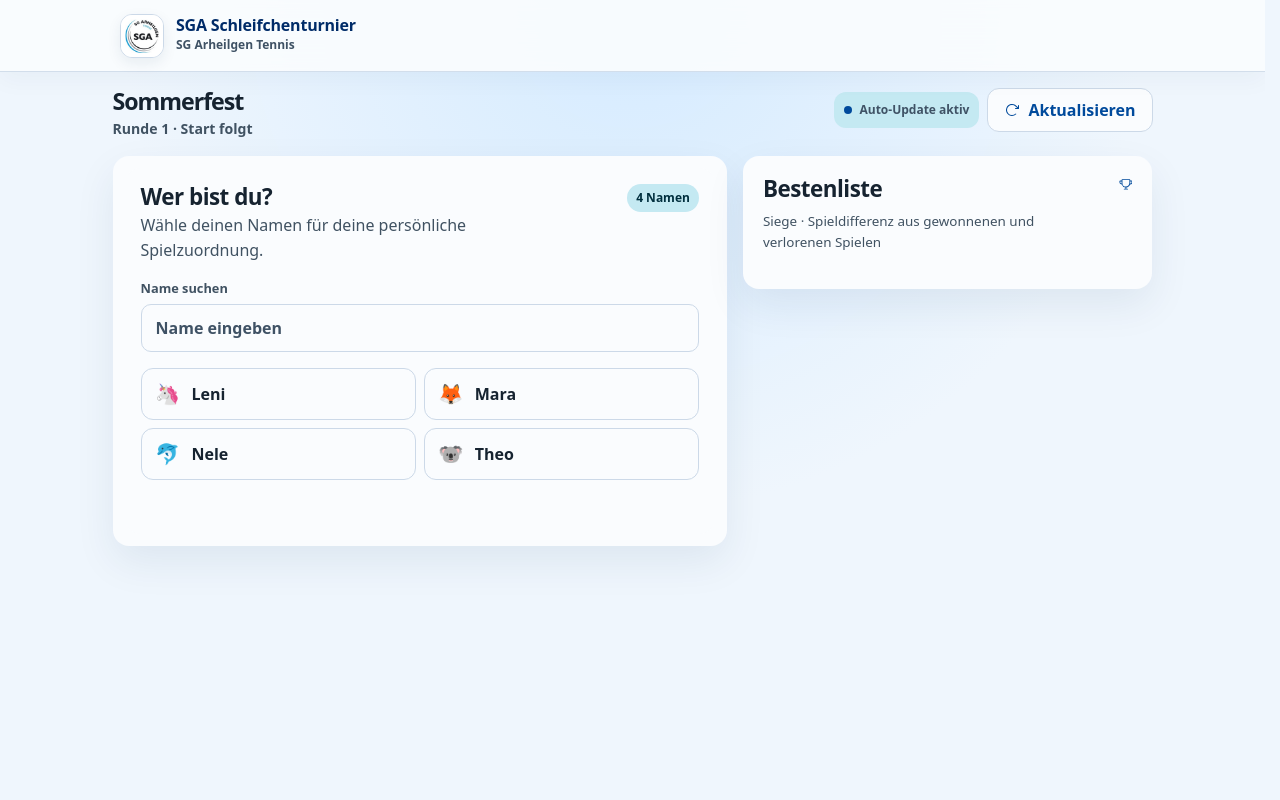
Test case: public event refresh behavior › clears stale event data after confirmed nonavailability
Check: the heading "Sommerfest" is shown, box [112,88,253,116]
Click the button "Aktualisieren".
click(1070, 110)  # box [988,88,1152,132]
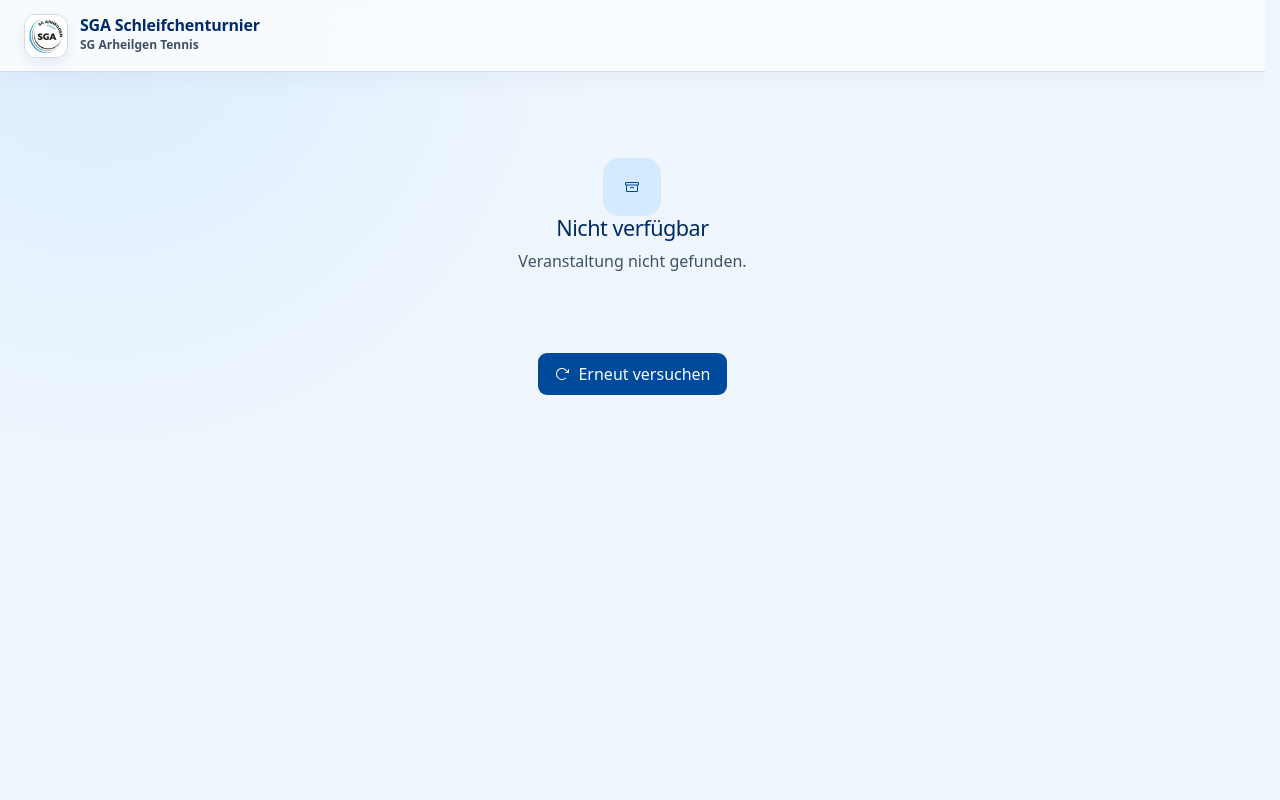
Check: the heading "Nicht verfügbar" is shown, box [556,216,709,241]
Check: the button "Erneut versuchen" is shown, box [538,352,728,396]
